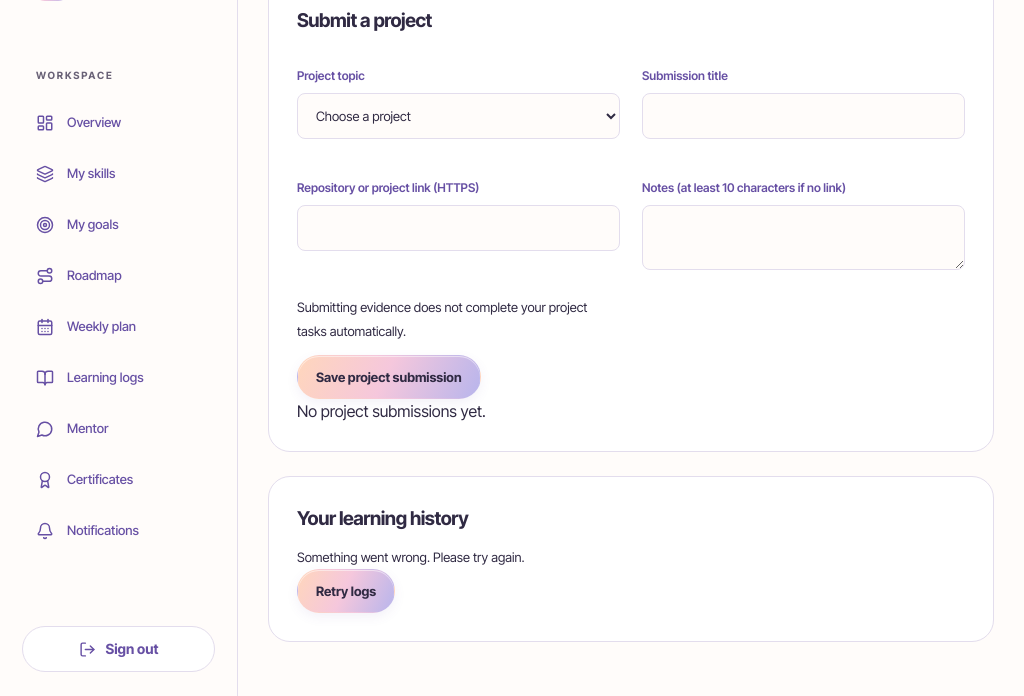
it: Learning logs and projects › retries failed history loading
(page scrolled)
Click the button "Retry logs" at (346, 591), box x1=297 y1=569 x2=395 y2=613
(page scrolled)
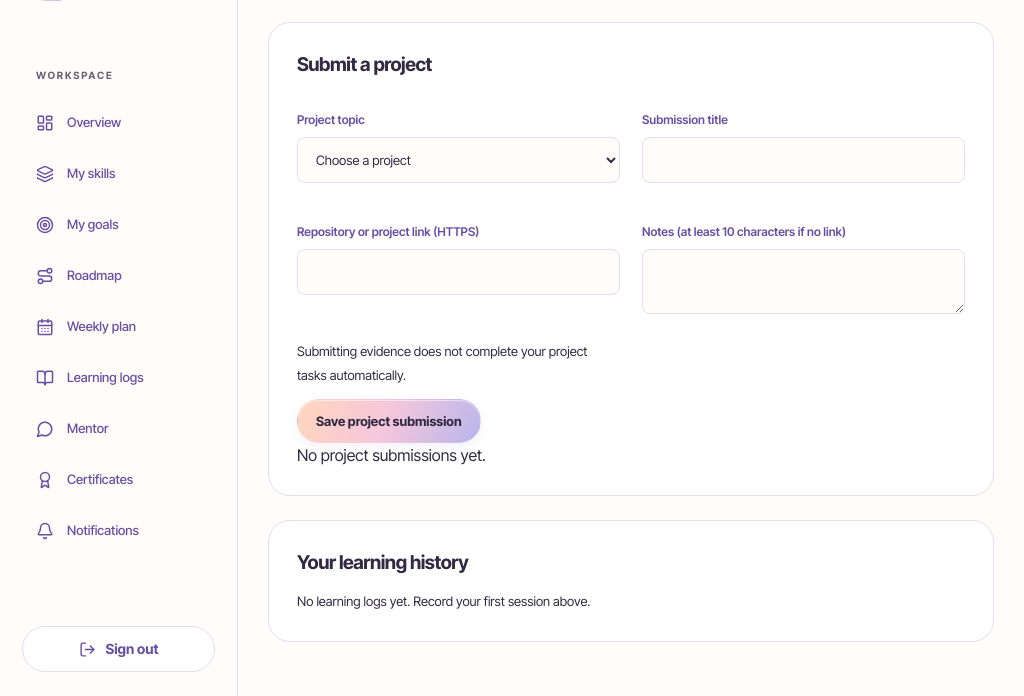
Now the text "No learning logs yet. Record your first session above." is shown, box x1=297 y1=593 x2=590 y2=609
